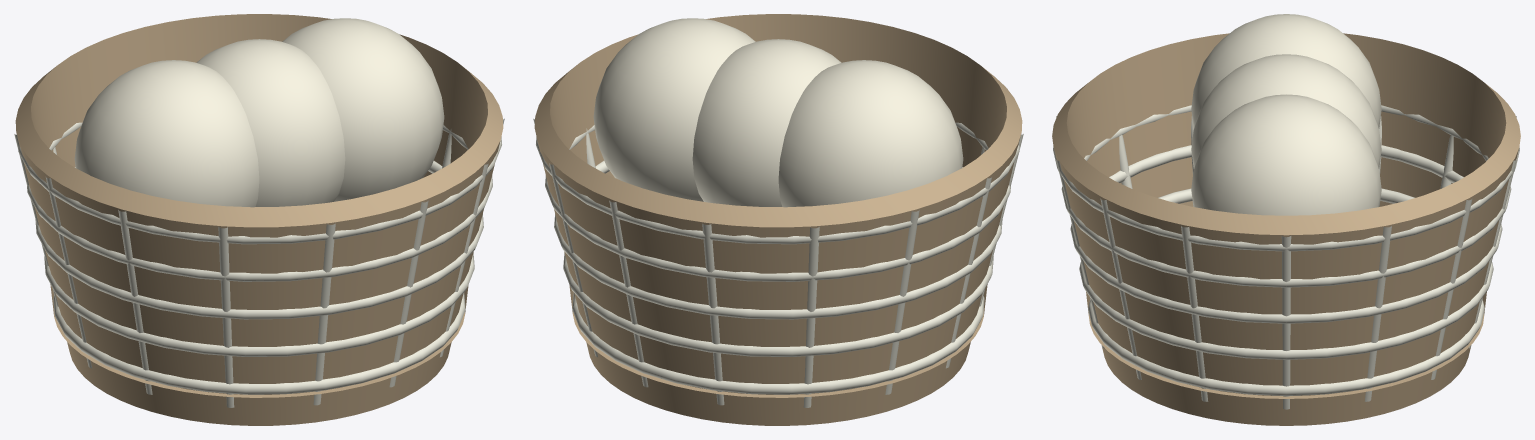
Rendered from textile-weaving-and-dye-workshop-fiber-basket-daaeafa8__29547.glb.
The picture shows the model from 3 angles, left to right: view 1: azimuth 30°, elevation 25°; view 2: azimuth 150°, elevation 25°; view 3: azimuth 270°, elevation 25°; orthographic projection. The views are drawn at different scales.
Visible parts, largest first — view 1: fiber-basket; view 2: fiber-basket; view 3: fiber-basket.
Part boxes in pixels (x1,y1,x2,y2): fiber-basket: [14, 14, 504, 425]; fiber-basket: [533, 14, 1023, 425]; fiber-basket: [1052, 14, 1520, 425].
Bounding box in the file's own units: 0.6456 × 0.43 × 0.64.
